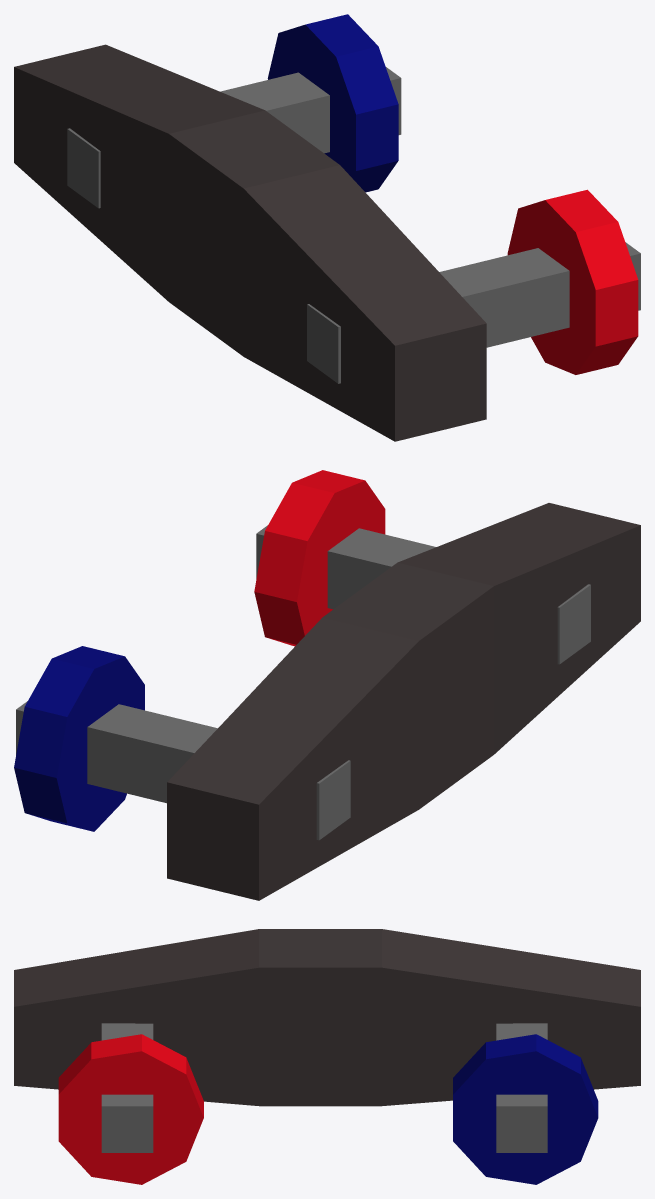
File: crane.glb
The picture shows the model from 3 angles, top to bottom: view 1: azimuth 30°, elevation 25°; view 2: azimuth 150°, elevation 25°; view 3: azimuth 270°, elevation 25°; orthographic projection. The views are drawn at different scales.
Visible parts, largest first — view 1: Cube, Cylinder, Cylinder.001, Cube.001, Cube.002; view 2: Cube, Cylinder.001, Cylinder, Cube.002, Cube.001; view 3: Cube, Cylinder.001, Cylinder, Cube.001, Cube.002.
Part boxes in pixels (x1,y1,x2,y2): Cube: [14, 44, 486, 441]; Cylinder: [507, 189, 638, 374]; Cylinder.001: [267, 14, 398, 192]; Cube.001: [307, 242, 640, 383]; Cube.002: [67, 67, 401, 208]; Cube: [167, 503, 640, 900]; Cylinder.001: [14, 646, 144, 831]; Cylinder: [254, 470, 385, 646]; Cube.002: [16, 701, 350, 840]; Cube.001: [256, 525, 590, 664]; Cube: [14, 929, 640, 1106]; Cylinder.001: [453, 1034, 598, 1184]; Cylinder: [58, 1034, 203, 1184]; Cube.001: [101, 1023, 153, 1152]; Cube.002: [496, 1023, 547, 1152].
Bounding box in the file's own units: 0.7088 × 0.3984 × 1.55.
